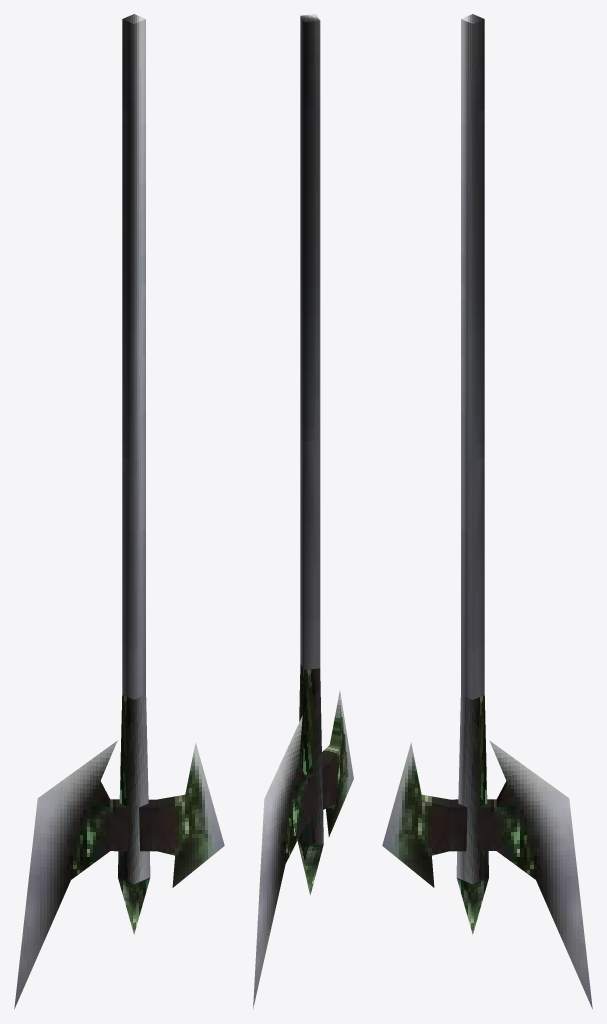
The model's file is Spear06.glb.
3 views of the same model, side by side, from view 1: azimuth 90°, elevation 25°; view 2: azimuth 150°, elevation 25°; view 3: azimuth 270°, elevation 25° (orthographic). The views are drawn at different scales.
Parts seen in each view (by area): view 1: model_Spear06; view 2: model_Spear06; view 3: model_Spear06.
Boxes of the visible parts, <box> form: model_Spear06: <box>14,14,224,1008</box>; model_Spear06: <box>253,14,353,1008</box>; model_Spear06: <box>382,14,592,1008</box>.
Size of the model in its own units: 0.0604 by 2.03 by 0.3904.
Materials: 1 (1 with a texture image).
